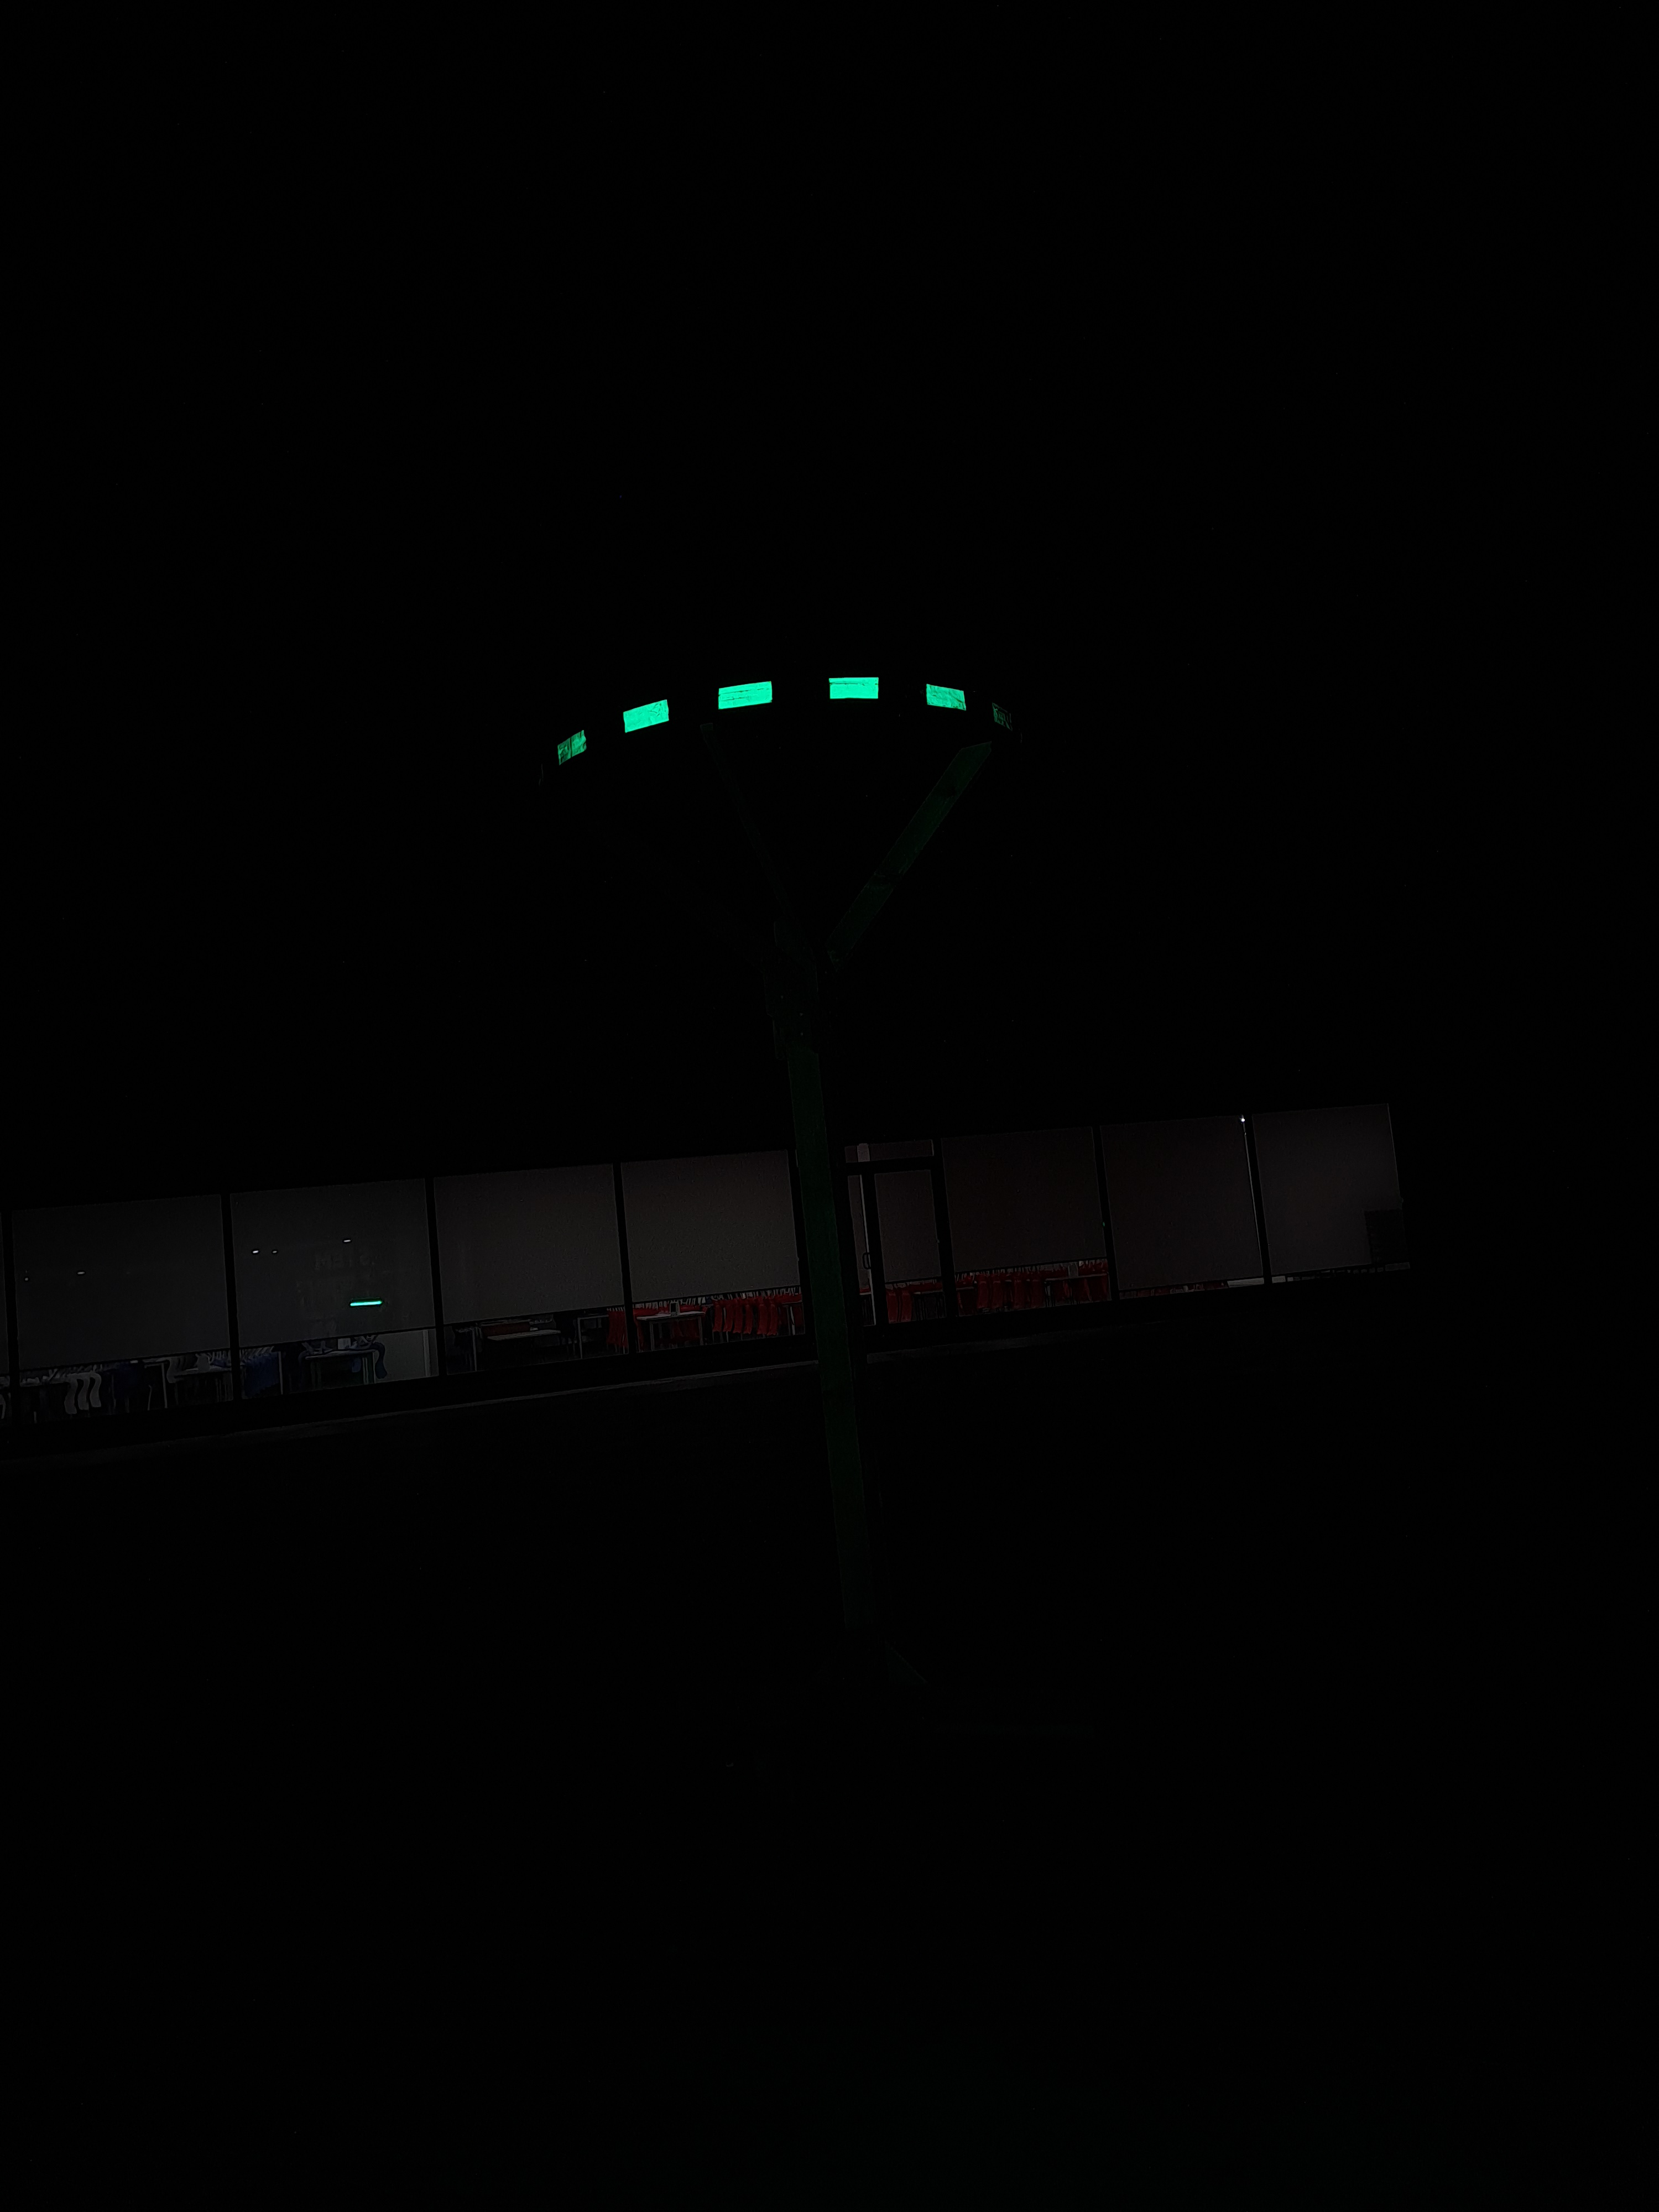hoop: (549, 671, 972, 780)
